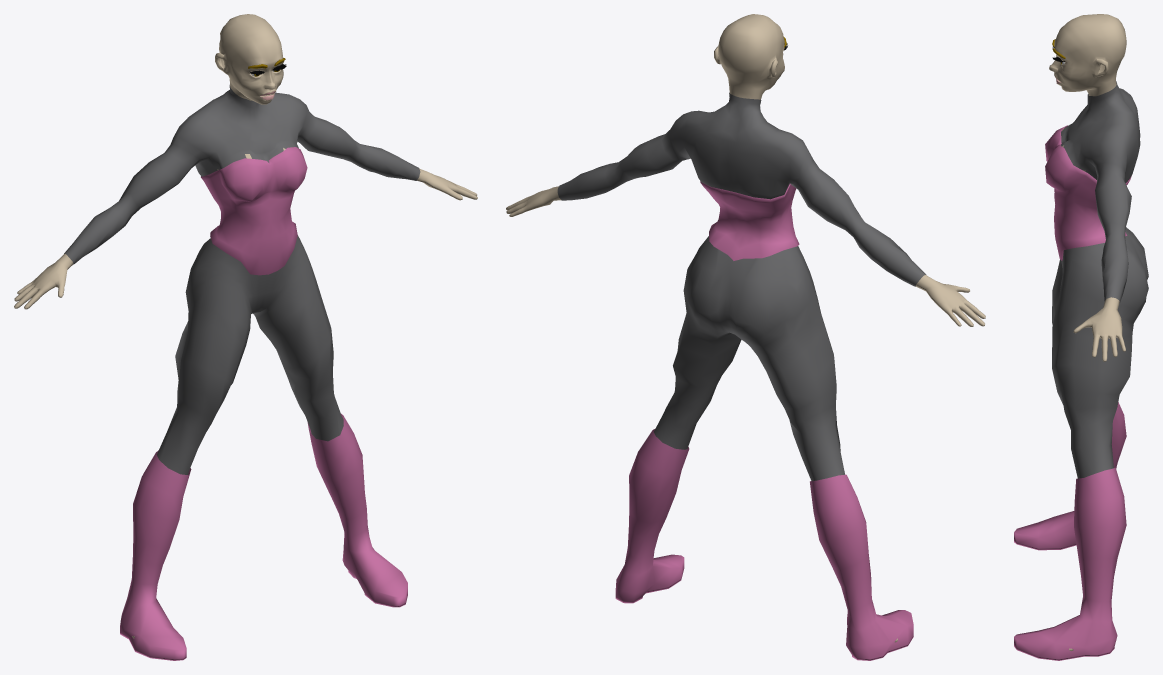
Rendered from Hero_Suit_002.fbx.
3 views of the same model, side by side, from view 1: azimuth 30°, elevation 25°; view 2: azimuth 150°, elevation 25°; view 3: azimuth 270°, elevation 25° (orthographic). The views are drawn at different scales.
Parts seen in each view (by area): view 1: Suit_Geo, Corset_Geo, L_Boot_Geo1, Body_Geo, L_Boot_Geo; view 2: Suit_Geo, L_Boot_Geo1, L_Boot_Geo, Body_Geo, Corset_Geo; view 3: Suit_Geo, L_Boot_Geo, Body_Geo, Corset_Geo, L_Boot_Geo1.
Boxes of the visible parts, left/top/right/bottom form: Suit_Geo: left=64, top=85, right=420, bottom=474; Corset_Geo: left=201, top=147, right=307, bottom=275; L_Boot_Geo1: left=120, top=450, right=191, bottom=660; Body_Geo: left=14, top=14, right=477, bottom=638; L_Boot_Geo: left=307, top=413, right=407, bottom=607; Suit_Geo: left=557, top=92, right=926, bottom=481; L_Boot_Geo1: left=810, top=474, right=913, bottom=660; L_Boot_Geo: left=615, top=429, right=689, bottom=603; Body_Geo: left=506, top=14, right=985, bottom=642; Corset_Geo: left=700, top=181, right=799, bottom=260; Suit_Geo: left=1052, top=81, right=1148, bottom=478; L_Boot_Geo: left=1014, top=467, right=1126, bottom=660; Body_Geo: left=1049, top=14, right=1126, bottom=650; Corset_Geo: left=1045, top=125, right=1131, bottom=260; L_Boot_Geo1: left=1014, top=402, right=1126, bottom=550.
Size of the model in its own units: 29.28 by 35.45 by 7.47.
